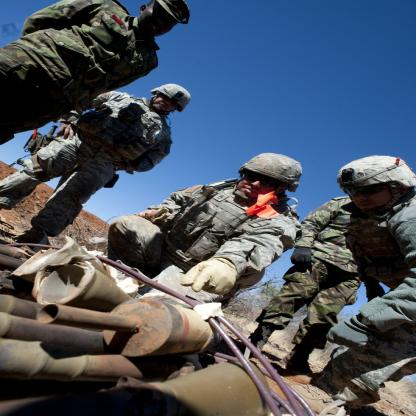Helmet: (347, 156, 406, 214), (240, 152, 305, 194), (150, 82, 190, 111)
